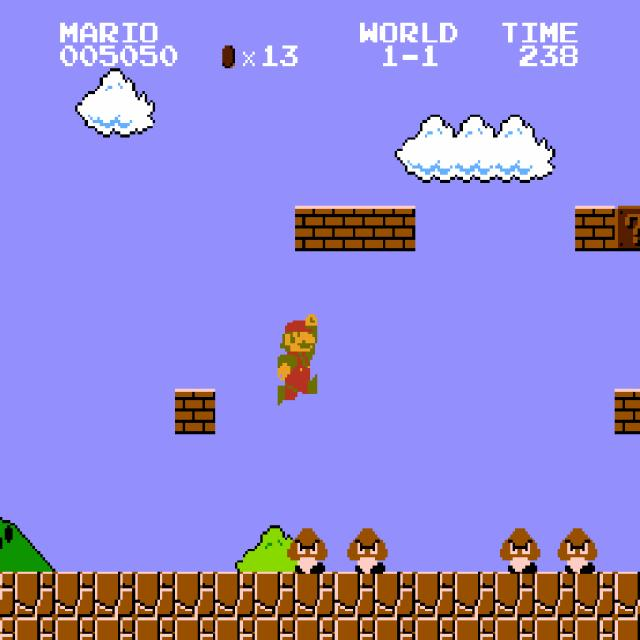big_mario: (275, 312, 318, 406)
brick_block: (175, 389, 215, 434), (295, 206, 335, 251), (335, 206, 375, 251), (375, 206, 415, 251), (575, 206, 615, 251), (614, 388, 640, 434)
goomba: (345, 526, 388, 574), (497, 526, 540, 574), (555, 526, 598, 574), (285, 526, 327, 574)
mystery_block: (614, 205, 640, 251)
undestructible_block: (15, 572, 55, 617), (55, 572, 95, 617), (95, 572, 135, 617), (135, 572, 175, 617), (175, 572, 215, 617), (215, 572, 255, 617), (255, 572, 295, 617), (295, 572, 335, 617), (335, 572, 375, 617), (375, 572, 415, 617), (415, 572, 455, 617), (455, 572, 495, 617), (495, 572, 535, 617), (535, 572, 575, 617), (575, 572, 615, 617), (614, 571, 640, 617), (15, 617, 55, 640), (55, 617, 95, 640), (95, 617, 135, 640), (135, 617, 175, 640), (175, 617, 215, 640), (215, 617, 255, 640), (255, 617, 295, 640), (295, 617, 335, 640), (335, 617, 375, 640), (375, 617, 415, 640), (415, 617, 455, 640), (455, 617, 495, 640), (495, 617, 535, 640), (535, 617, 575, 640), (575, 617, 615, 640), (0, 572, 15, 617), (614, 617, 640, 639), (0, 617, 15, 640)
